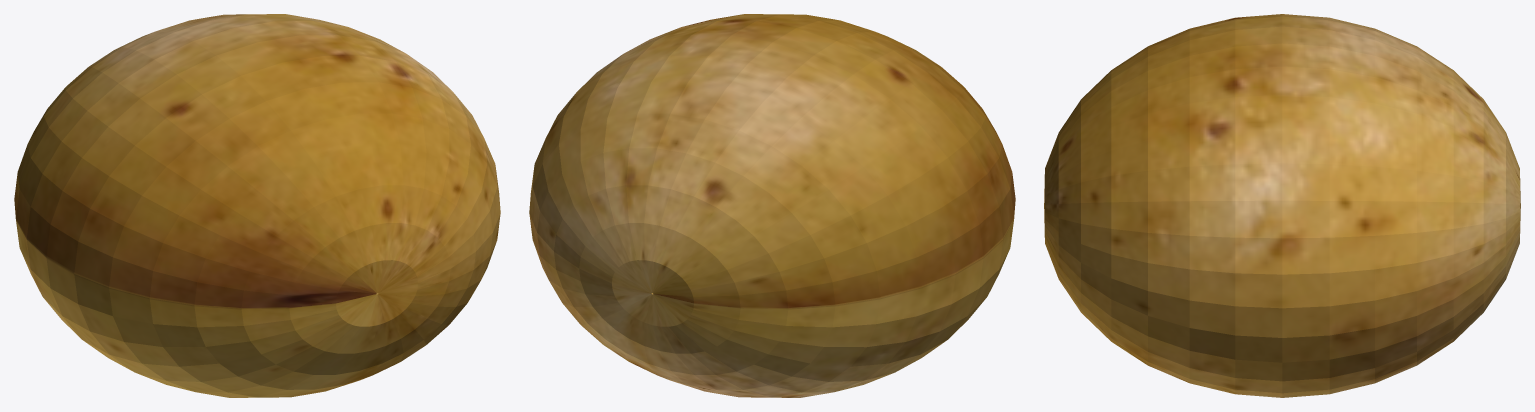
File: potate_with_uv.dae
3 renders of one model, left to right at view 1: azimuth 30°, elevation 25°; view 2: azimuth 150°, elevation 25°; view 3: azimuth 270°, elevation 25°, orthographic.
Visible parts, largest first — view 1: 球; view 2: 球; view 3: 球.
Boxes of the visible parts, <box> form: 球: <box>14,14,500,397</box>; 球: <box>529,14,1015,397</box>; 球: <box>1044,14,1520,397</box>.
Size of the model in its own units: 2.7 by 2.66 by 2.
1 material, 1 textured.
